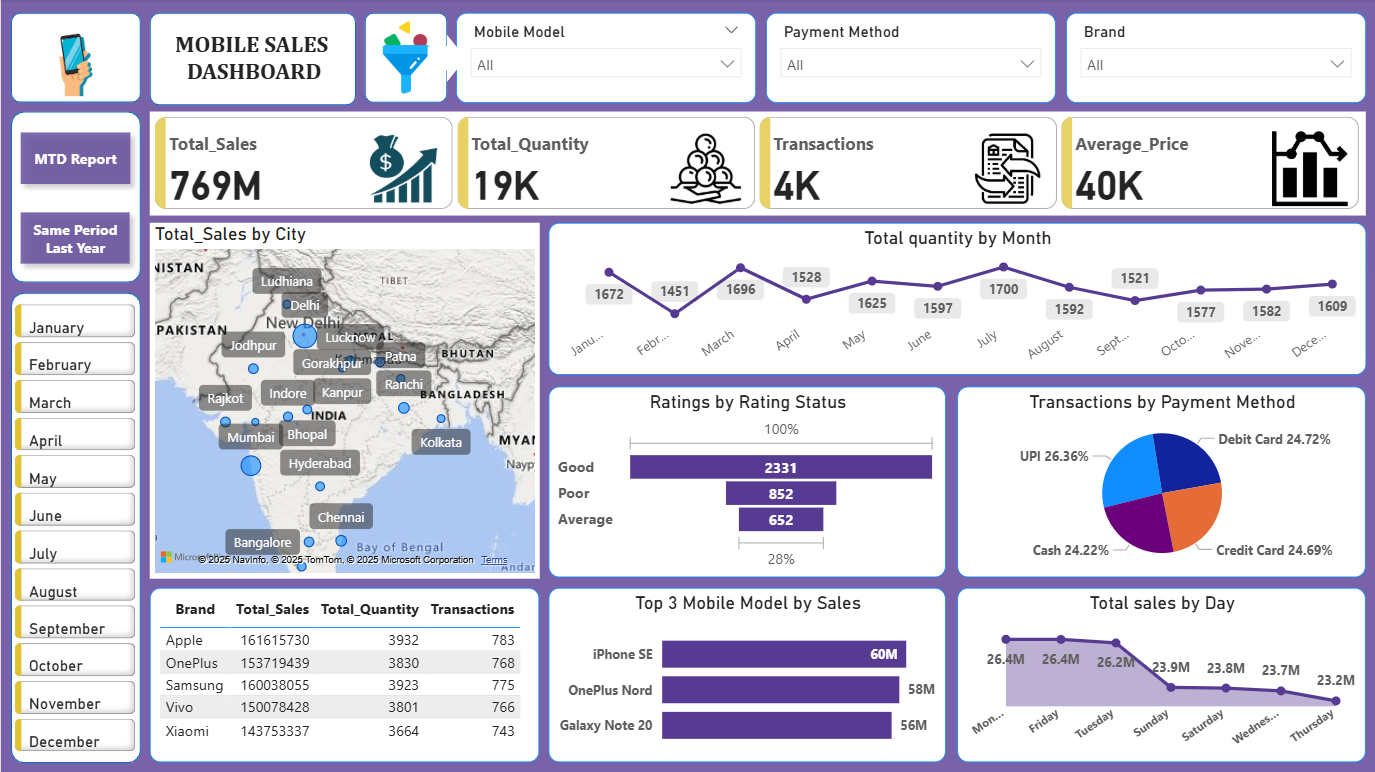

Layout of this report page (visuals, bound fields, positions):
{"tool":"powerbi","page":{"name":"Dashboard","canvas":[1280,720],"ordinal":0},"visuals":[{"type":"shape","box":[9.3,12.8,120.9,83.7],"z":0},{"type":"image","box":[24.4,12.8,88.4,86],"z":1000},{"type":"shape","box":[9.3,104.7,120.9,159.3],"z":2000},{"type":"shape","box":[9.3,273.3,120.9,437.2],"z":3000},{"type":"advancedSlicerVisual","fields":{"Values":["Custom_Calender.Date.Variation.Date Hierarchy.Month"]},"box":[8.1,279.1,122.1,437.2],"z":4000},{"type":"cardVisual","fields":{"Data":["Sales_Data.Total_Sales","Sales_Data.Total_Quantity","Sales_Data.Transactions","Sales_Data.Average_Price"]},"box":[138.4,104.7,1131.4,96.5],"z":5000},{"type":"slicer","fields":{"Values":["Sales_Data.Mobile Model"]},"box":[423.3,12.8,279.1,83.7],"z":6000},{"type":"slicer","fields":{"Values":["Sales_Data.Payment Method"]},"box":[711.6,12.8,269.8,83.7],"z":7000},{"type":"slicer","fields":{"Values":["Sales_Data.Brand"]},"box":[990.7,12.8,279.1,83.7],"z":8000},{"type":"shape","box":[338.4,12.8,76.7,83.7],"z":9000},{"type":"image","box":[320.9,12.8,111.6,83.7],"z":10000},{"type":"shape","box":[396.5,32.6,36,45.3],"z":11000},{"type":"shape","box":[138.4,12.8,191.9,86],"z":12000},{"type":"textbox","box":[150,24.4,170.9,72.1],"z":13000},{"type":"lineChart","title":"Total quantity by Month","fields":{"Y":["Sales_Data.Total_Quantity"],"Category":["Custom_Calender.Date.Variation.Date Hierarchy.Month"]},"box":[509.3,208.1,760.5,141.9],"z":14000},{"type":"funnel","title":"Ratings by Rating Status","fields":{"Category":["Sales_Data.Rating Status"],"Y":["CountNonNull(Sales_Data.Customer Ratings)"]},"box":[509.3,360.5,369.8,177.9],"z":15000},{"type":"pieChart","fields":{"Y":["Sales_Data.Transactions"],"Category":["Sales_Data.Payment Method"]},"box":[889.5,360.5,380.2,177.9],"z":16000},{"type":"clusteredBarChart","title":"Top 3 Mobile Model by Sales","fields":{"Y":["Sales_Data.Total_Sales"],"Category":["Sales_Data.Mobile Model"]},"box":[509.3,547.7,369.8,162.8],"z":17000},{"type":"areaChart","title":"Total sales by Day","fields":{"Category":["Custom_Calender.Day Name"],"Y":["Sales_Data.Total_Sales"]},"box":[889.5,547.7,380.2,162.8],"z":18000},{"type":"tableEx","fields":{"Values":["Sales_Data.Brand","Sales_Data.Total_Sales","Sales_Data.Total_Quantity","Sales_Data.Transactions"]},"box":[138.4,547.7,362.8,162.8],"z":19000},{"type":"map","fields":{"Category":["Sales_Data.City"],"Size":["Sales_Data.Total_Sales"]},"box":[138.4,208.1,362.8,330.2],"z":20000},{"type":"pageNavigator","box":[9.3,115.1,120.9,140.7],"z":21000}]}

Visuals, with their boxes in screenshot pixels (x1, y1, x2, y2), scaled from the page's 1280x720 canvas onto the 1375x772 screenshot:
shape: detection(10, 14, 140, 103)
image: detection(26, 14, 121, 106)
shape: detection(10, 112, 140, 283)
shape: detection(10, 293, 140, 762)
advancedSlicerVisual - Custom_Calender.Date.Variation.Date Hierarchy.Month: detection(9, 299, 140, 768)
cardVisual - Sales_Data.Total_Sales x Sales_Data.Total_Quantity: detection(149, 112, 1364, 216)
slicer - Sales_Data.Mobile Model: detection(455, 14, 755, 103)
slicer - Sales_Data.Payment Method: detection(764, 14, 1054, 103)
slicer - Sales_Data.Brand: detection(1064, 14, 1364, 103)
shape: detection(364, 14, 446, 103)
image: detection(345, 14, 465, 103)
shape: detection(426, 35, 465, 84)
shape: detection(149, 14, 355, 106)
textbox: detection(161, 26, 345, 103)
"Total quantity by Month" lineChart: detection(547, 223, 1364, 375)
"Ratings by Rating Status" funnel: detection(547, 387, 944, 577)
pieChart - Sales_Data.Transactions x Sales_Data.Payment Method: detection(956, 387, 1364, 577)
"Top 3 Mobile Model by Sales" clusteredBarChart: detection(547, 587, 944, 762)
"Total sales by Day" areaChart: detection(956, 587, 1364, 762)
tableEx - Sales_Data.Brand x Sales_Data.Total_Sales: detection(149, 587, 538, 762)
map - Sales_Data.City x Sales_Data.Total_Sales: detection(149, 223, 538, 577)
pageNavigator: detection(10, 123, 140, 274)
